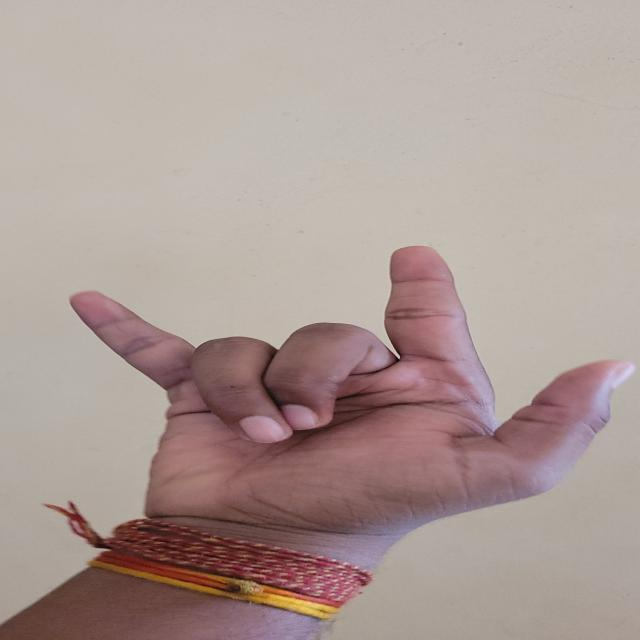i like you: (18, 226, 640, 566)
